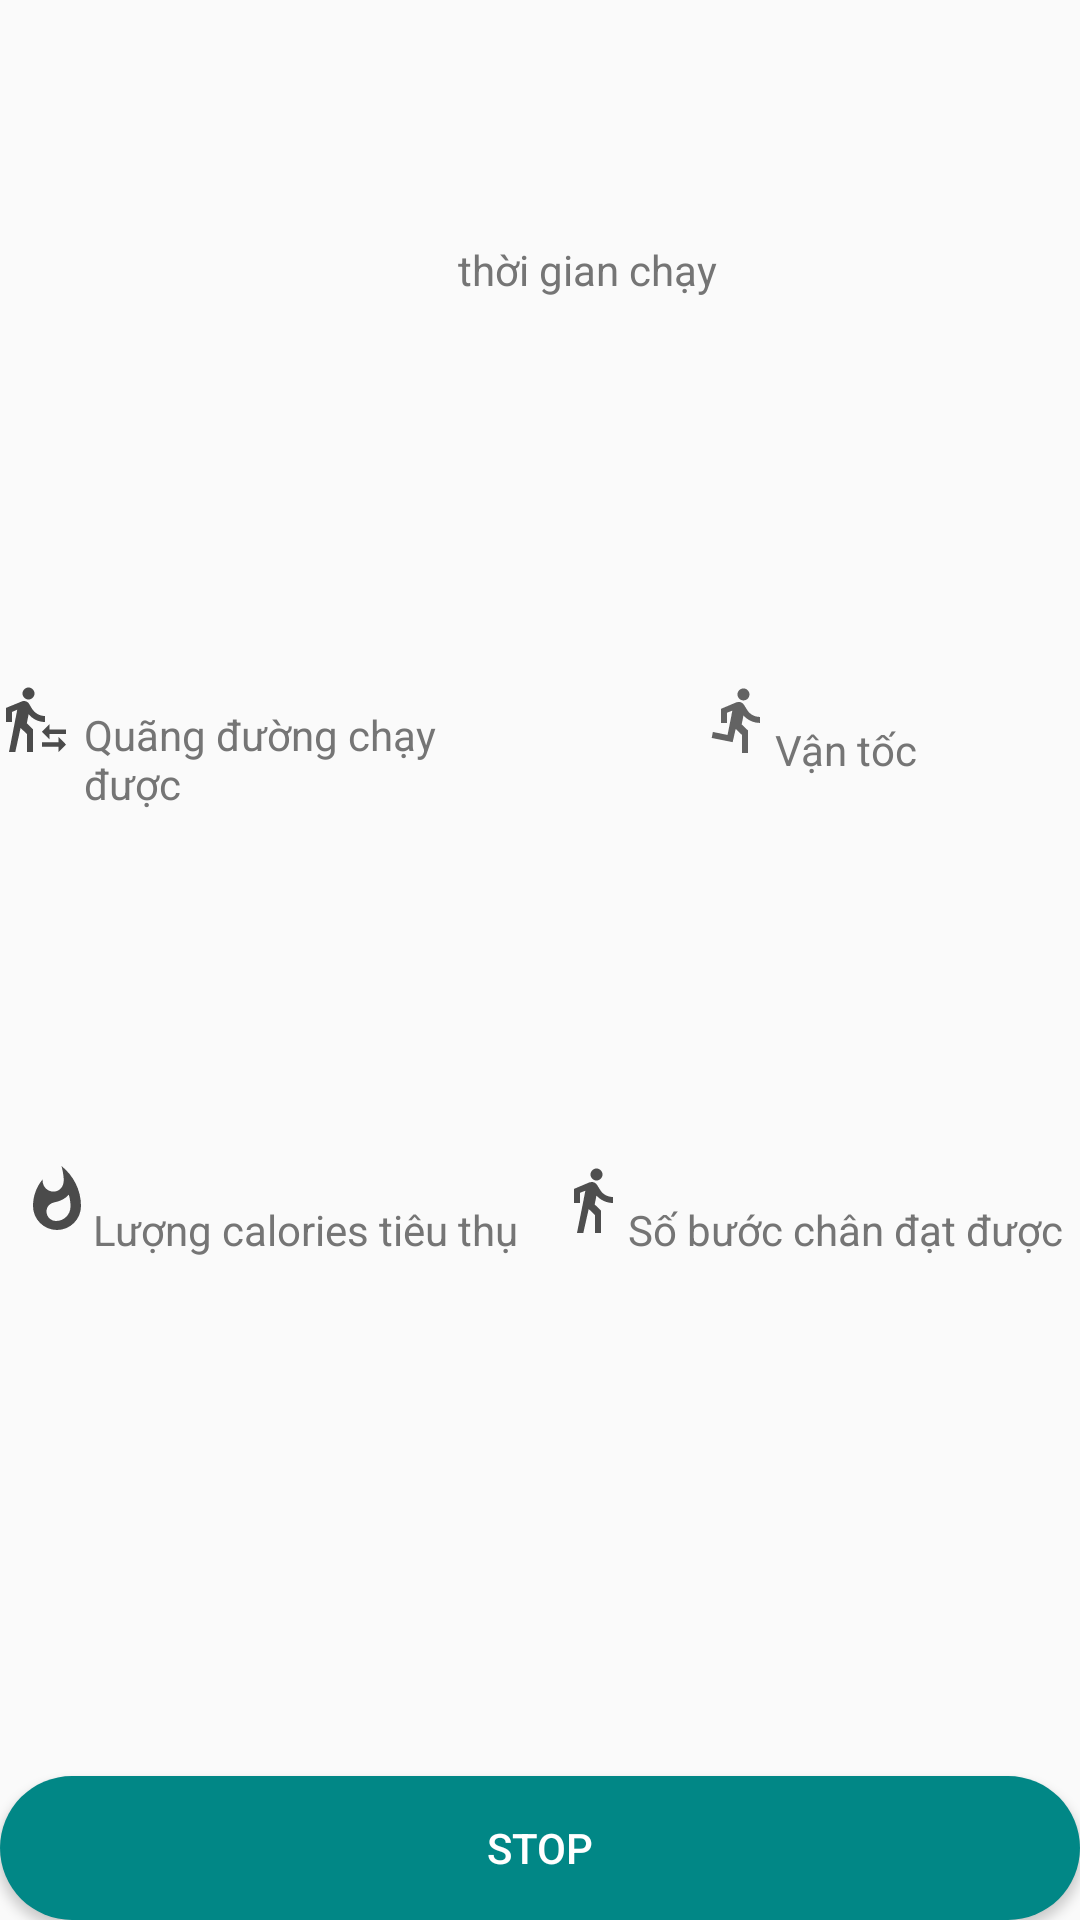

Locate icon controls on the screen. Image size 1080×1920, boxes as [x1,y1,x2,y2].
directions run: [711,688,760,753]
directions walk 65black: [574,1168,613,1233]
fire 65black: [33,1166,81,1230]
transfer within station 65black: [6,687,66,752]
